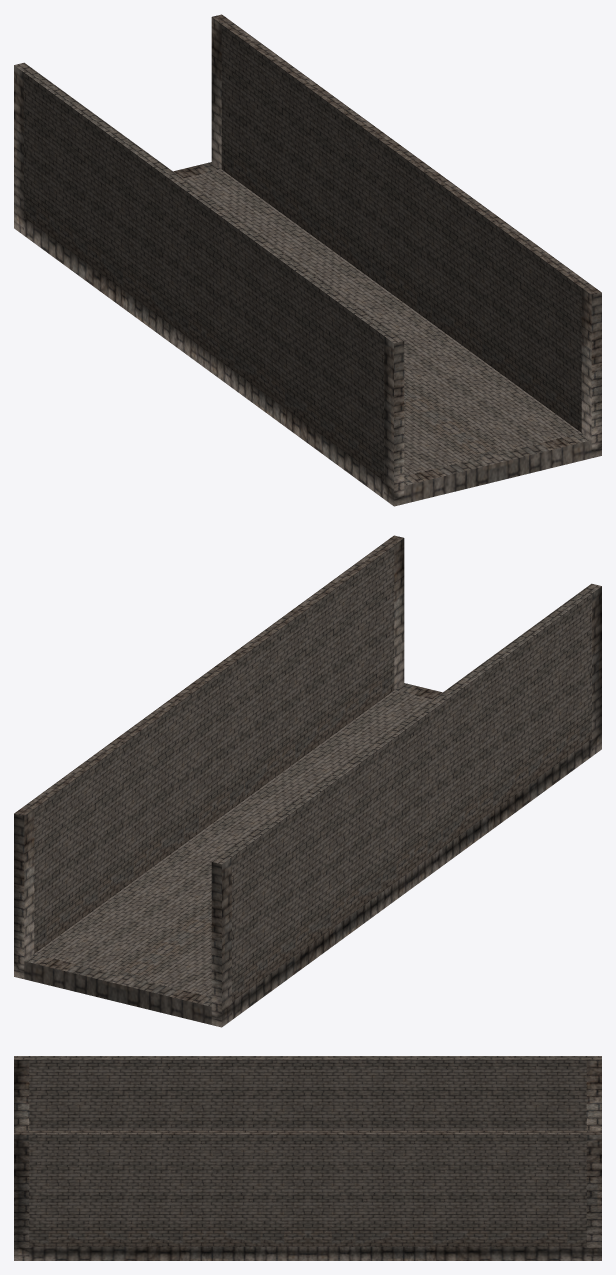
File: Dungeon_Sky1way.FBX
3 renders of one model, top to bottom at view 1: azimuth 30°, elevation 25°; view 2: azimuth 150°, elevation 25°; view 3: azimuth 270°, elevation 25°, orthographic. The views are drawn at different scales.
Visible parts, largest first — view 1: Cube_001; view 2: Cube_001; view 3: Cube_001.
Part boxes in pixels (bbox=[...]): Cube_001: bbox=[14, 14, 601, 506]; Cube_001: bbox=[14, 535, 601, 1027]; Cube_001: bbox=[14, 1056, 601, 1260].
Size of the model in its own units: 6 by 4.5 by 19.
